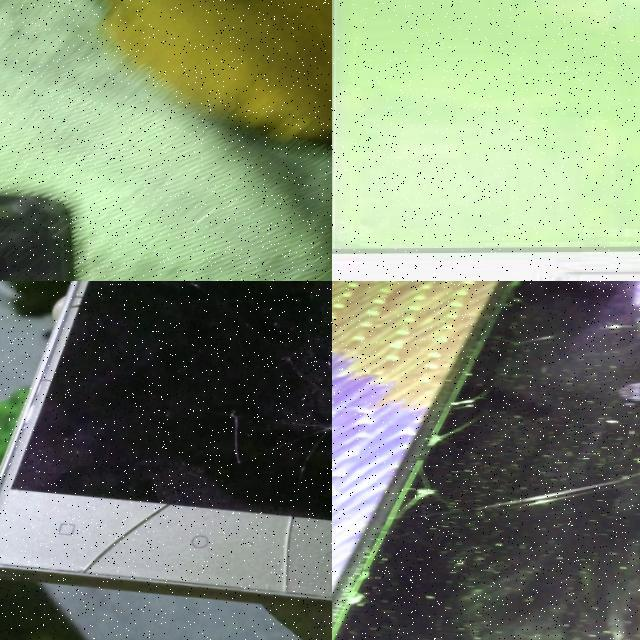screen crack: (332, 281, 640, 640), (83, 281, 332, 598)
